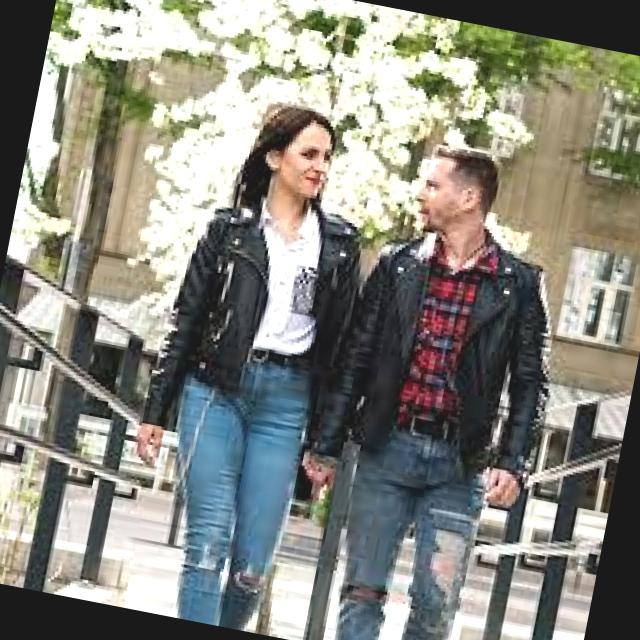face: (267, 123, 332, 200), (417, 156, 479, 232)
lower-wear: (177, 360, 310, 629), (336, 430, 484, 639)
top-wear: (316, 228, 576, 500), (136, 187, 375, 473)
